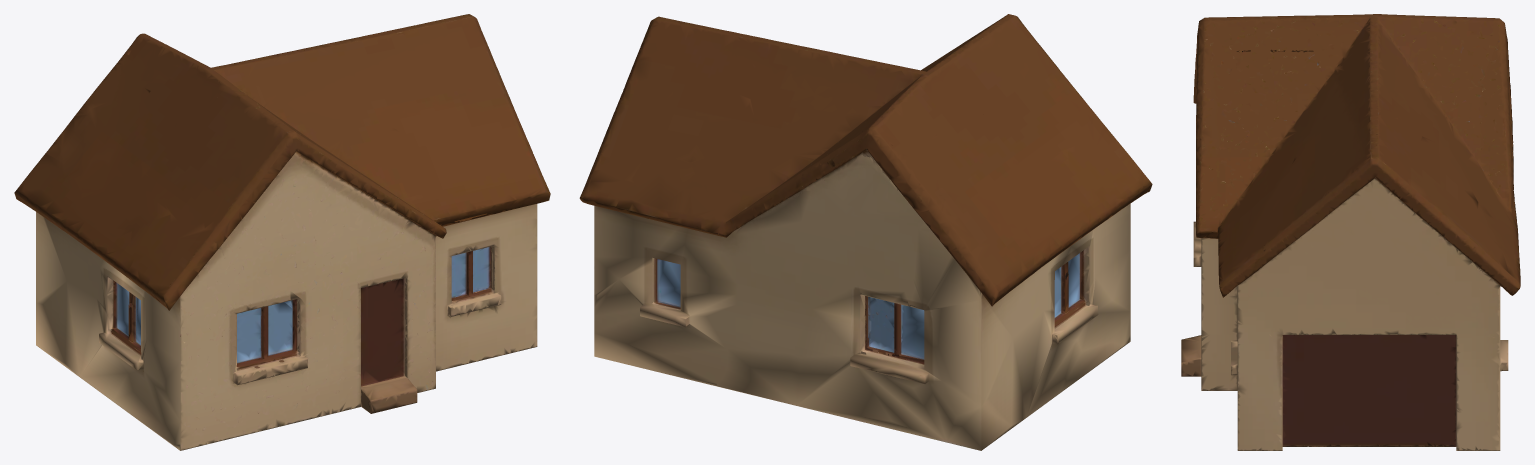
File: ranch_house.glb
The picture shows the model from 3 angles, left to right: view 1: azimuth 30°, elevation 25°; view 2: azimuth 150°, elevation 25°; view 3: azimuth 270°, elevation 25°; orthographic projection. The views are drawn at different scales.
Visible parts, largest first — view 1: geometry_0; view 2: geometry_0; view 3: geometry_0.
Part boxes in pixels (x1,y1,x2,y2): geometry_0: [14, 14, 550, 450]; geometry_0: [579, 14, 1152, 450]; geometry_0: [1181, 14, 1520, 450].
Bounding box in the file's own units: 12 × 8.46 × 8.58.
1 material, 1 textured.
